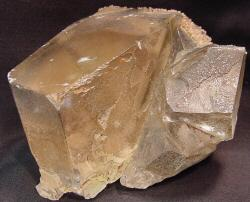calcite: (8, 6, 247, 200)
